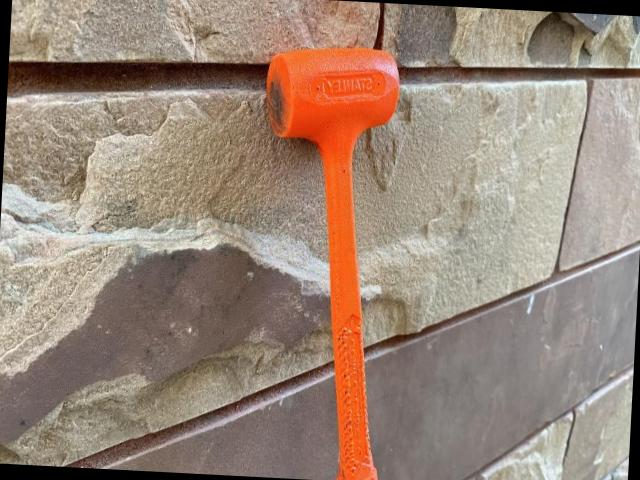hammer: (246, 44, 406, 480)
